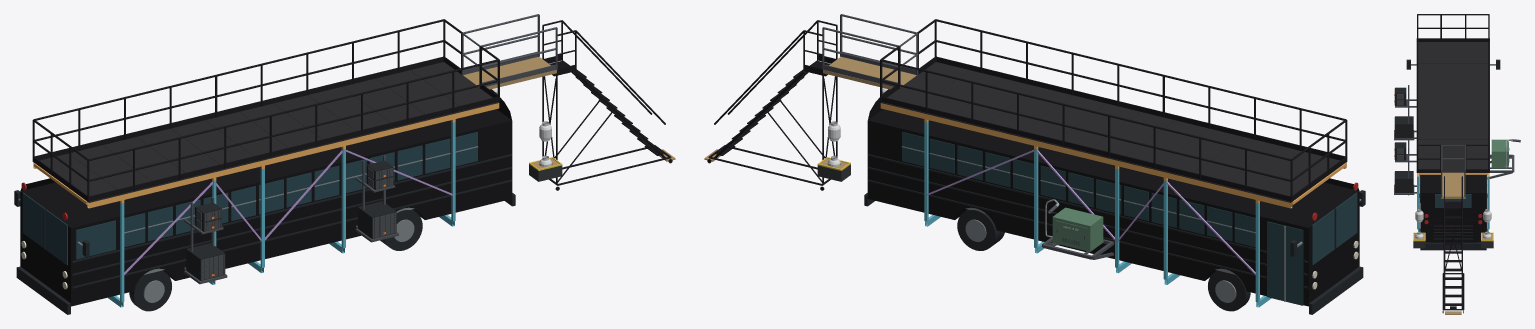
File: baaabs-subframe-study-v2.glb
3 renders of one model, left to right at view 1: azimuth 30°, elevation 25°; view 2: azimuth 150°, elevation 25°; view 3: azimuth 270°, elevation 25°, orthographic. The views are drawn at different scales.
Parts seen in each view (by area): view 1: Bus__Body_96in_wide, Toe_board_-1, Toe_board_1, Bus__Roof_126in_high, Dancefloor_section_11, Dancefloor_section_08, Dancefloor_section_04, Dancefloor_section_05, Dancefloor_section_10, Dancefloor_section_06, Dancefloor_section_12, Dancefloor_section_07 (+40 smaller); view 2: Bus__Body_96in_wide, Bus__Entrance_door, Toe_board_1, Toe_board_-1, Bus__Roof_126in_high, Dancefloor_section_11, Dancefloor_section_08, Dancefloor_section_04, Dancefloor_section_05, Dancefloor_section_10, Dancefloor_section_06, Dancefloor_section_12 (+41 smaller); view 3: Bus__Body_96in_wide, Bus__Rear_engine_hatch, Dancefloor_section_02, Dancefloor_section_04, Dancefloor_section_05, Dancefloor_section_03, Dancefloor_section_11, Dancefloor_section_01, Dancefloor_section_06, Dancefloor_section_07, Dancefloor_section_08, Dancefloor_section_09 (+22 smaller).
Boxes of the visible parts, <box> form: Bus__Body_96in_wide: <box>20,109,512,306</box>; Toe_board_-1: <box>89,96,498,201</box>; Toe_board_1: <box>34,57,443,160</box>; Bus__Roof_126in_high: <box>20,89,511,226</box>; Dancefloor_section_11: <box>376,70,465,119</box>; Dancefloor_section_08: <box>273,95,362,144</box>; Dancefloor_section_04: <box>137,128,225,177</box>; Dancefloor_section_05: <box>171,120,259,169</box>; Dancefloor_section_10: <box>342,78,430,127</box>; Dancefloor_section_06: <box>205,112,294,161</box>; Dancefloor_section_12: <box>410,62,499,110</box>; Dancefloor_section_07: <box>239,103,328,152</box>; Bus__Body_96in_wide: <box>867,109,1359,306</box>; Bus__Entrance_door: <box>1267,221,1303,305</box>; Toe_board_1: <box>881,96,1290,201</box>; Toe_board_-1: <box>936,57,1345,160</box>; Bus__Roof_126in_high: <box>868,89,1359,226</box>; Dancefloor_section_11: <box>914,70,1003,119</box>; Dancefloor_section_08: <box>1017,95,1106,144</box>; Dancefloor_section_04: <box>1154,128,1242,177</box>; Dancefloor_section_05: <box>1120,120,1208,169</box>; Dancefloor_section_10: <box>949,78,1037,127</box>; Dancefloor_section_06: <box>1085,112,1174,161</box>; Dancefloor_section_12: <box>880,62,969,110</box>; Bus__Body_96in_wide: <box>1420,175,1486,242</box>; Bus__Rear_engine_hatch: <box>1429,220,1477,242</box>; Dancefloor_section_02: <box>1416,52,1489,63</box>; Dancefloor_section_04: <box>1416,74,1489,85</box>; Dancefloor_section_05: <box>1416,85,1489,96</box>; Dancefloor_section_03: <box>1416,63,1489,74</box>; Dancefloor_section_11: <box>1416,150,1489,161</box>; Dancefloor_section_01: <box>1416,42,1489,52</box>; Dancefloor_section_06: <box>1416,96,1489,106</box>; Dancefloor_section_07: <box>1416,107,1489,117</box>; Dancefloor_section_08: <box>1416,118,1489,128</box>; Dancefloor_section_09: <box>1416,129,1489,139</box>.
Size of what is drawn, in the model's own units: 17.42 by 4.53 by 4.67.
